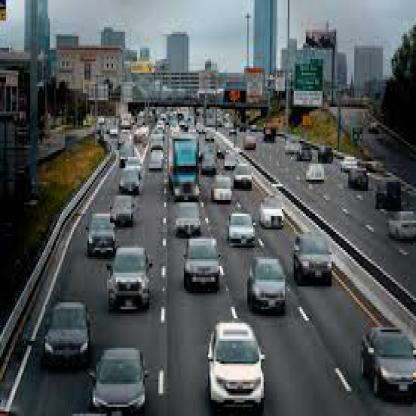car: (363, 322, 416, 410), (211, 319, 264, 406), (93, 344, 147, 415), (46, 306, 90, 369), (108, 249, 152, 312), (295, 231, 334, 290), (249, 256, 288, 313), (185, 240, 221, 292), (389, 210, 416, 258), (89, 215, 116, 258), (375, 181, 403, 213), (178, 203, 202, 240), (261, 196, 285, 233), (230, 215, 254, 249), (111, 194, 134, 226), (212, 176, 233, 203), (120, 169, 141, 194), (235, 165, 254, 192), (349, 169, 369, 190), (307, 162, 327, 183), (201, 149, 215, 174), (286, 135, 301, 158), (319, 146, 334, 167), (147, 154, 164, 172), (152, 133, 165, 153), (242, 137, 259, 151), (301, 147, 314, 163), (226, 154, 238, 170), (120, 147, 132, 160), (206, 131, 217, 142)
container: (170, 135, 201, 199)
